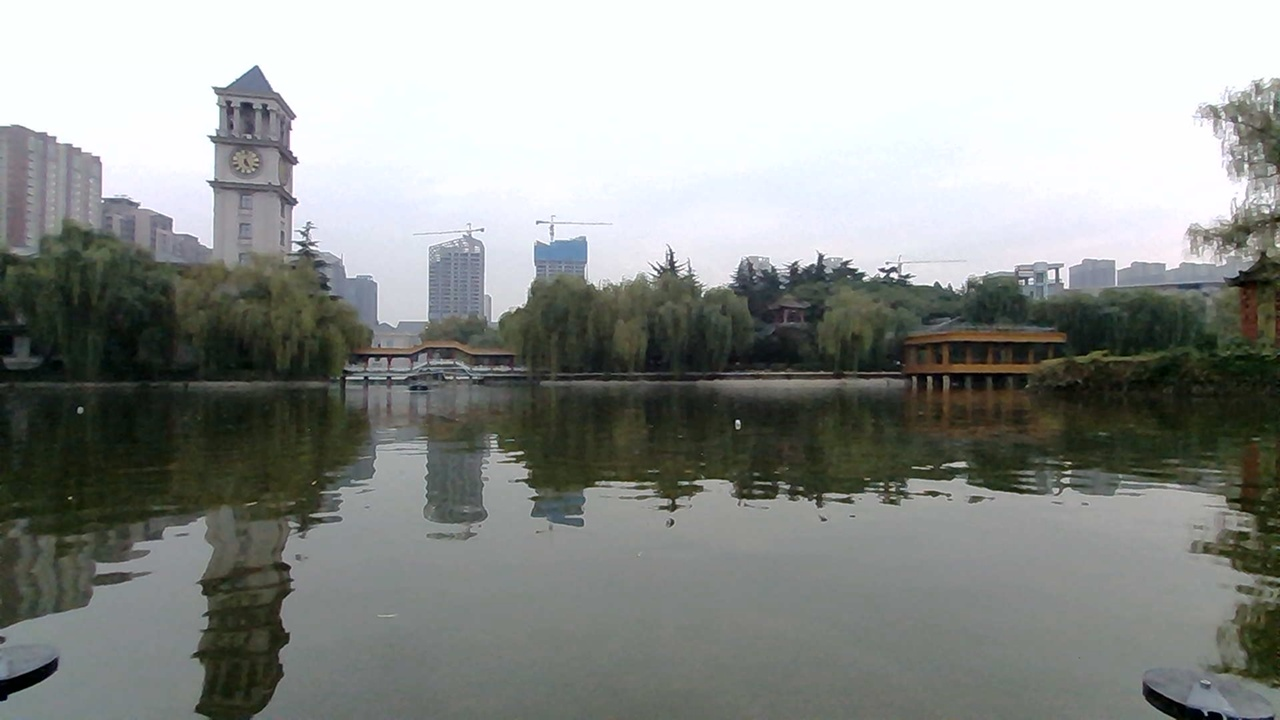bottle: (717, 406, 751, 431)
